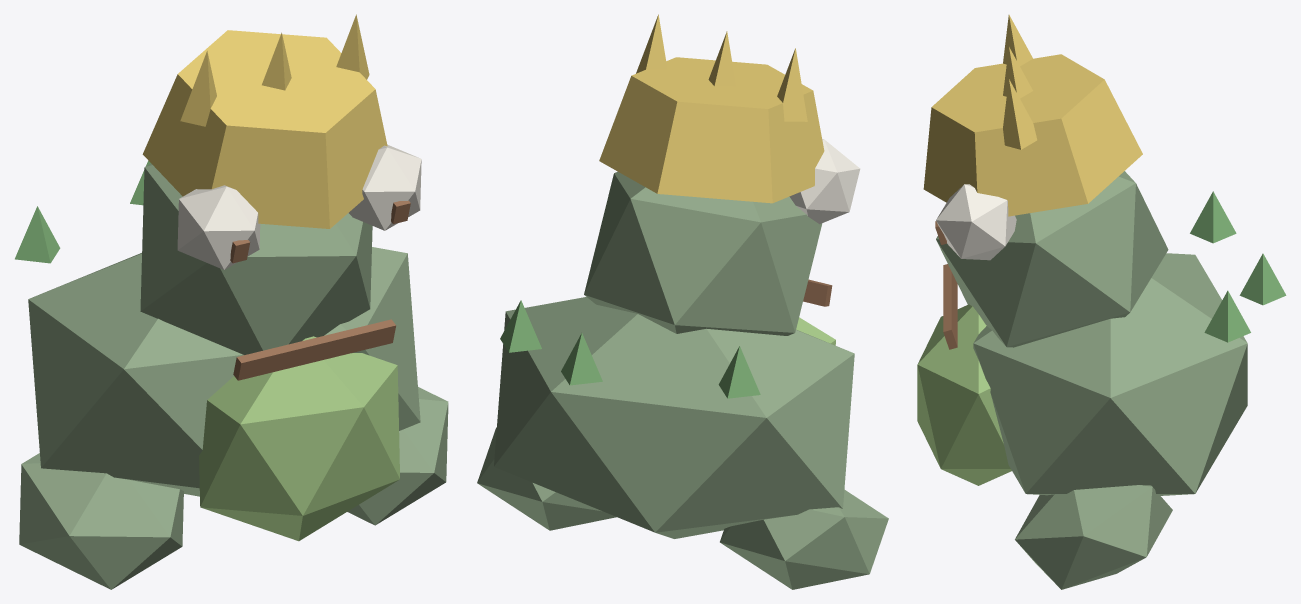
File: npcpose_toad_king_walk_13.glb
3 renders of one model, left to right at view 1: azimuth 30°, elevation 25°; view 2: azimuth 150°, elevation 25°; view 3: azimuth 270°, elevation 25°, orthographic. The views are drawn at different scales.
Visible parts, largest first — view 1: npcpose; view 2: npcpose; view 3: npcpose.
Boxes of the visible parts, left/top/right/bottom form: npcpose: left=15, top=14, right=448, bottom=589; npcpose: left=477, top=14, right=888, bottom=589; npcpose: left=917, top=14, right=1286, bottom=589.
Bounding box in the file's own units: 1.75 × 2.12 × 1.51.
